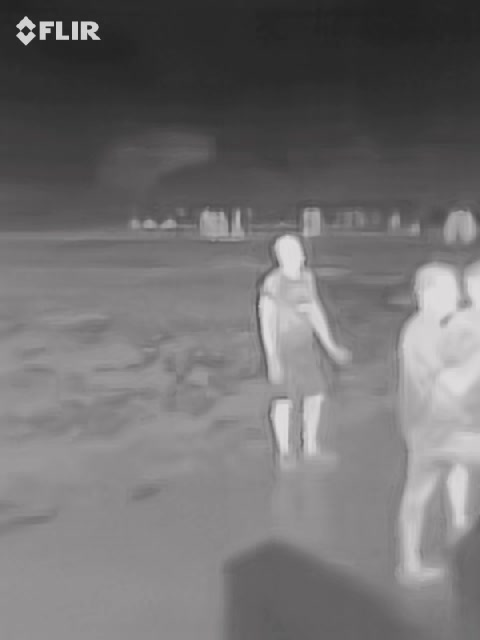head: (407, 262, 460, 329)
